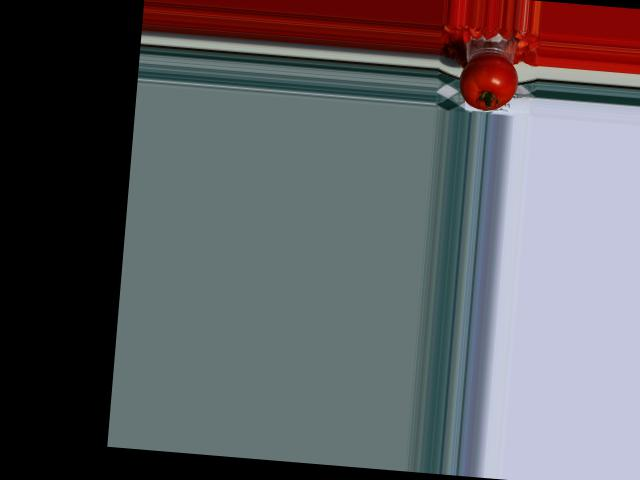tomato: (457, 52, 521, 113)
